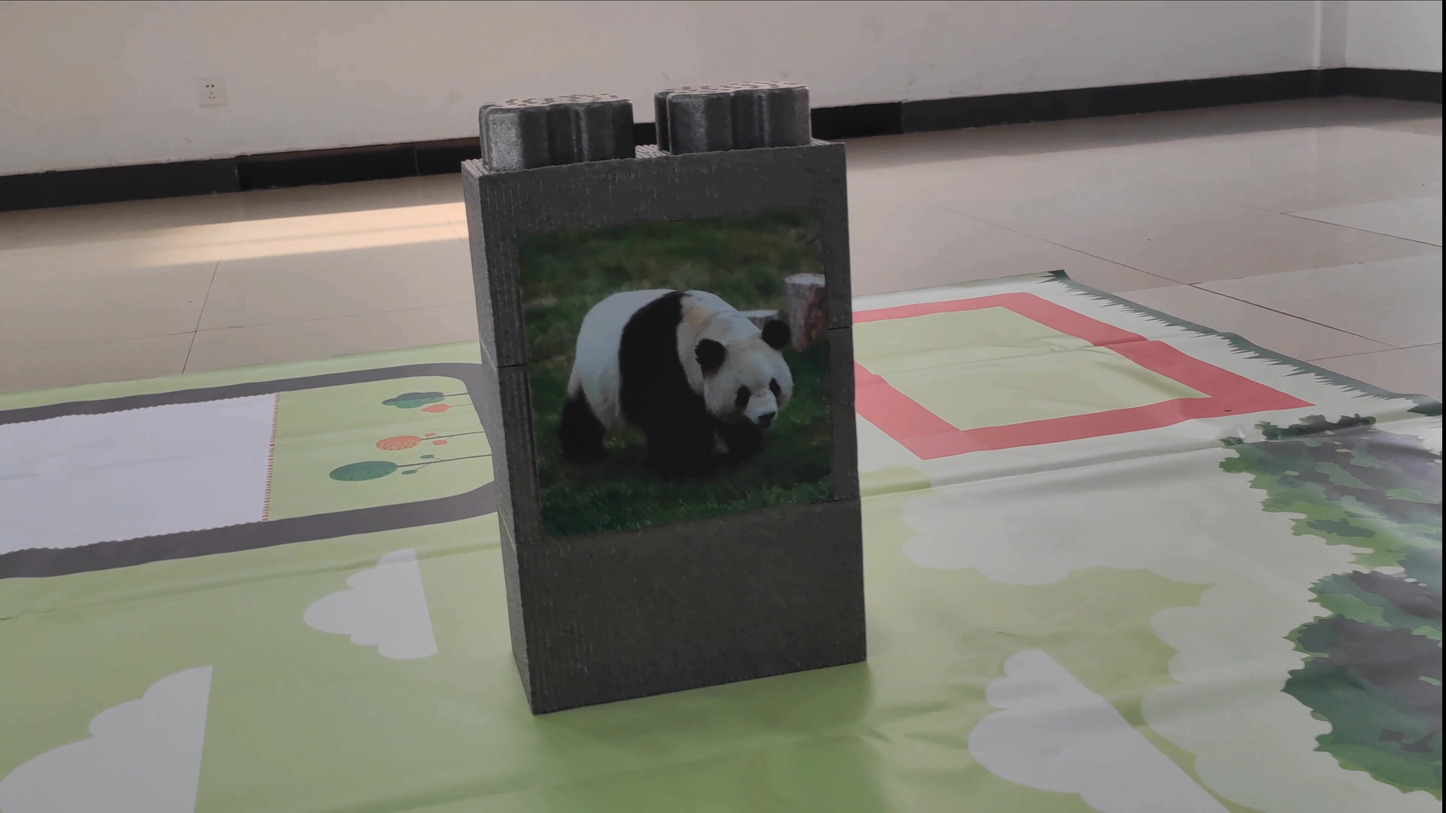panda: (507, 262, 820, 499)
